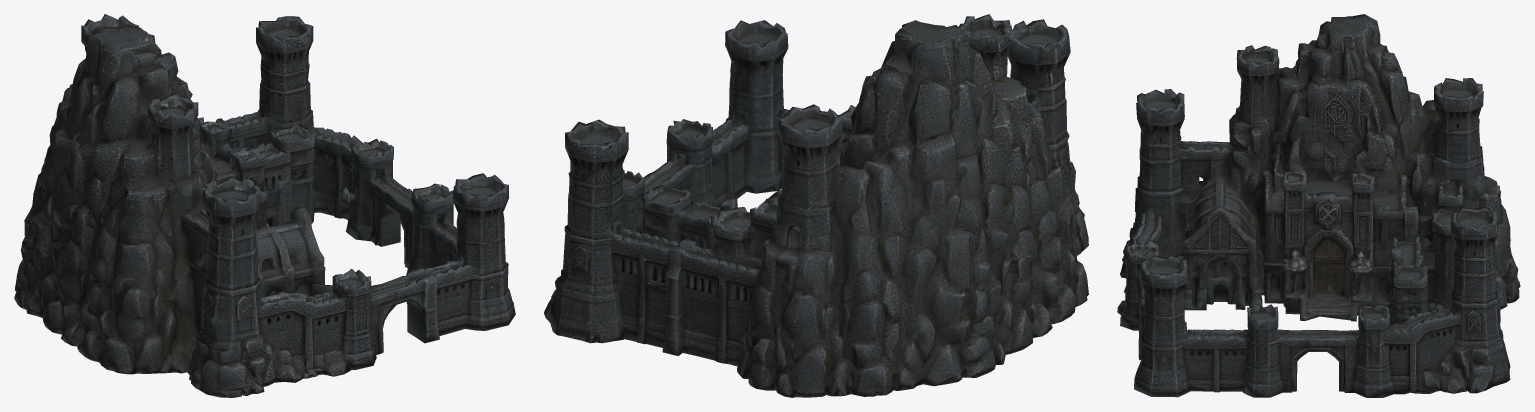
File: dwarf-3.glb
The picture shows the model from 3 angles, left to right: view 1: azimuth 30°, elevation 25°; view 2: azimuth 150°, elevation 25°; view 3: azimuth 270°, elevation 25°; orthographic projection. The views are drawn at different scales.
Parts seen in each view (by area): view 1: tripo_node_acf54ae3-1282-4c21-ae93-939a4e6a9b83; view 2: tripo_node_acf54ae3-1282-4c21-ae93-939a4e6a9b83; view 3: tripo_node_acf54ae3-1282-4c21-ae93-939a4e6a9b83.
Boxes of the visible parts, left/top/right/bottom form: tripo_node_acf54ae3-1282-4c21-ae93-939a4e6a9b83: left=14, top=14, right=515, bottom=397; tripo_node_acf54ae3-1282-4c21-ae93-939a4e6a9b83: left=544, top=14, right=1088, bottom=397; tripo_node_acf54ae3-1282-4c21-ae93-939a4e6a9b83: left=1117, top=14, right=1520, bottom=397.
Bounding box in the file's own units: 0.9706 × 0.6704 × 1.
Materials: 1 (1 with a texture image).
